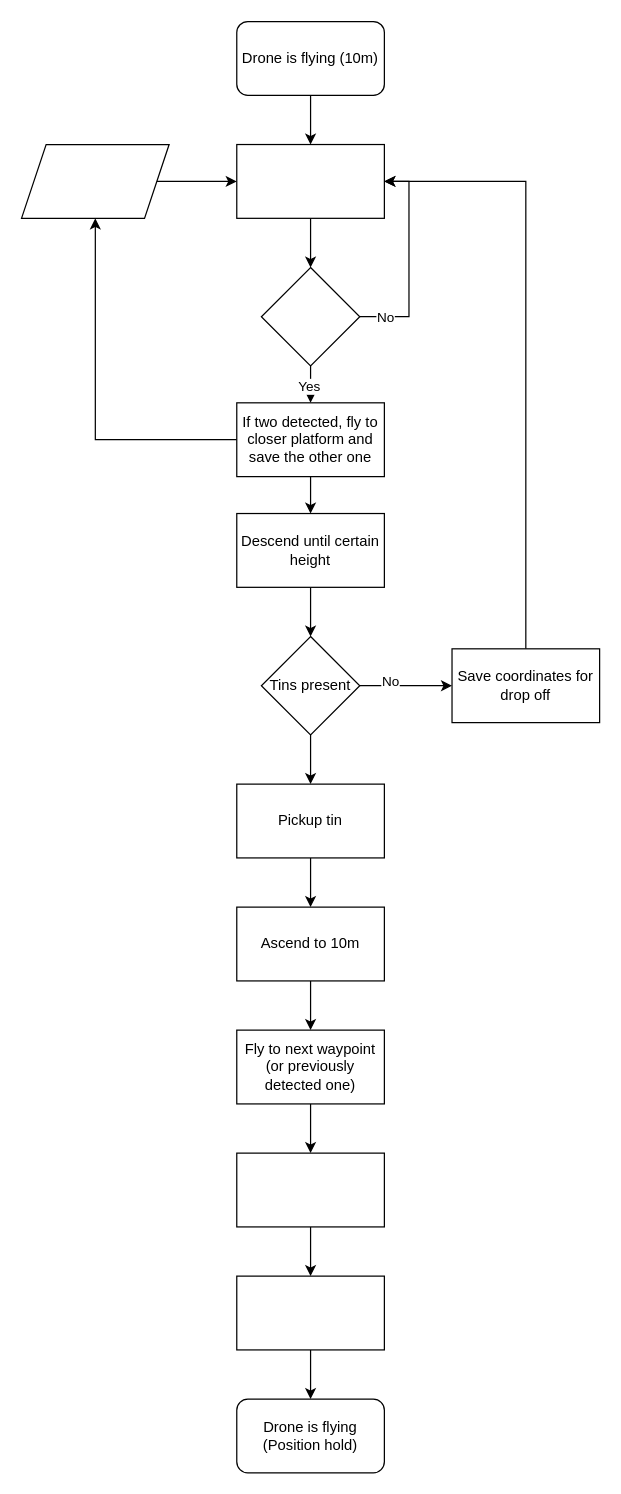
Some shapes in this 621 by 1494 pixel diagram are drawn without their labels. Here are the shapes that lost their labels. From the top down, the box of each, then its label:
(20, 143, 169, 218): List of waypoints
(236, 143, 384, 218): Fly to next waypoint
(260, 266, 360, 366): Detect landing platform
(236, 1152, 384, 1227): Land on platform
(236, 1275, 384, 1350): Fly to 10m
